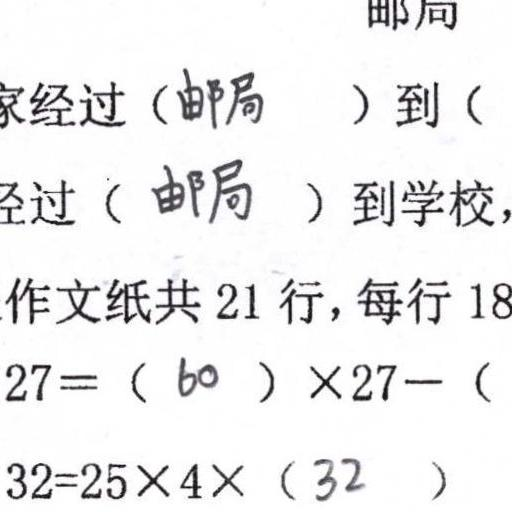ans: (150, 156, 253, 225), (177, 64, 266, 133), (306, 449, 364, 501), (171, 349, 217, 398)
